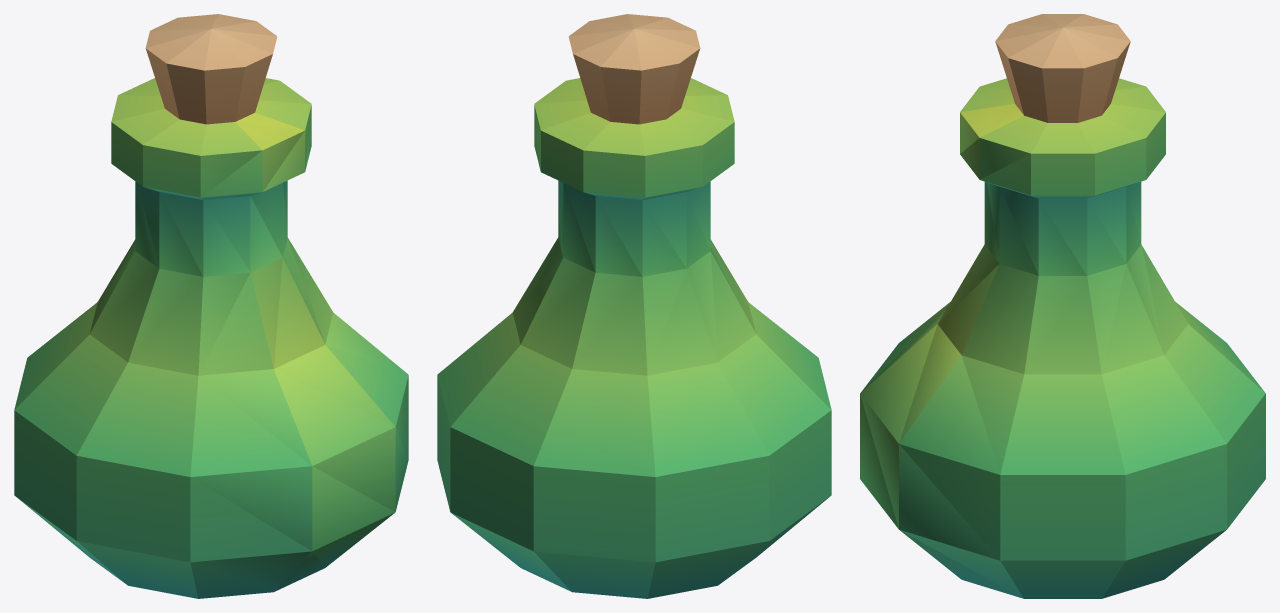
The model's file is potion_green.glb.
3 renders of one model, left to right at view 1: azimuth 30°, elevation 25°; view 2: azimuth 150°, elevation 25°; view 3: azimuth 270°, elevation 25°, orthographic.
Parts seen in each view (by area): view 1: potion_green; view 2: potion_green; view 3: potion_green.
Boxes of the visible parts, <box> form: potion_green: <box>14,14,408,598</box>; potion_green: <box>437,14,831,598</box>; potion_green: <box>860,14,1265,598</box>.
Size of the model in its own units: 0.2236 by 0.35 by 0.2351.
Materials: 1 (1 with a texture image).
